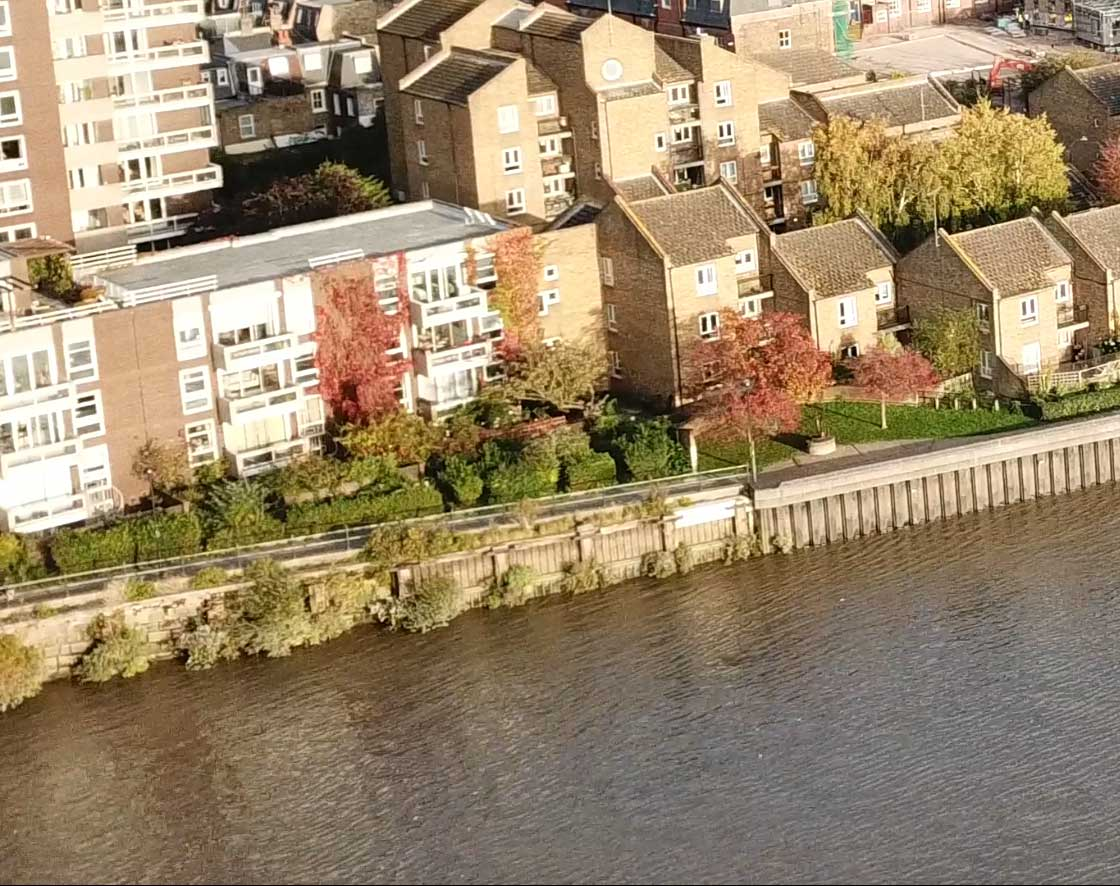building: (26, 249, 526, 461)
tree: (669, 305, 836, 480)
